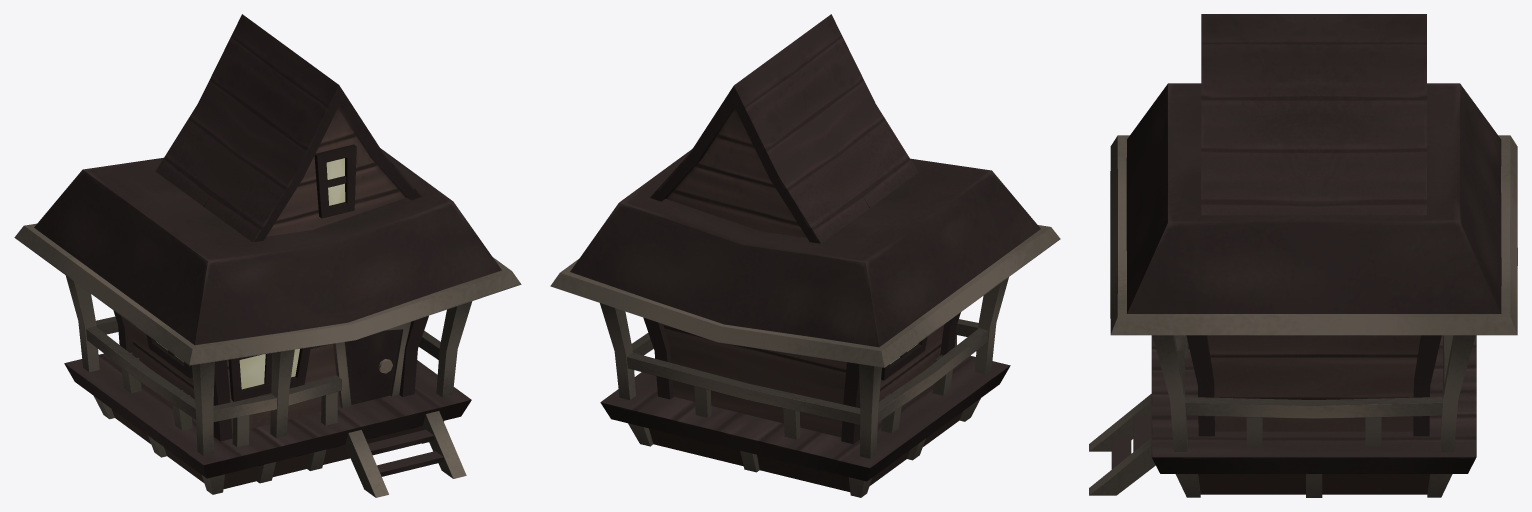
Rendered from House2.fbx.
3 views of the same model, side by side, from view 1: azimuth 30°, elevation 25°; view 2: azimuth 150°, elevation 25°; view 3: azimuth 270°, elevation 25° (orthographic). The views are drawn at different scales.
Visible parts, largest first — view 1: house2, window; view 2: house2; view 3: house2.
Boxes of the visible parts, box(x1,y1,x2,y2) form: house2: box(14, 14, 521, 497); window: box(156, 158, 345, 389); house2: box(550, 14, 1060, 497); house2: box(1089, 14, 1517, 497).
Size of the model in its own units: 412 by 445 by 396.
